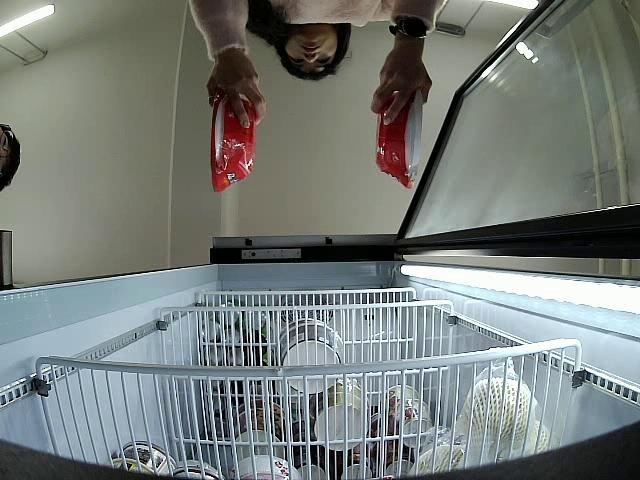10_wangTtukkeong: (373, 86, 422, 190), (210, 90, 257, 194)
